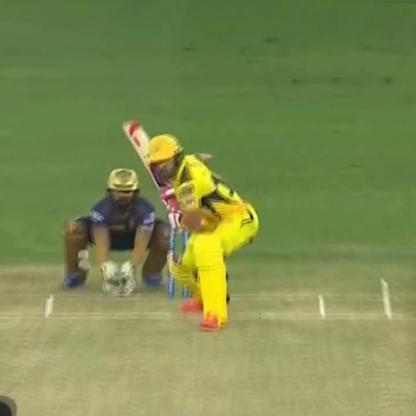ball: (70, 257, 92, 279), (70, 245, 96, 257)
bat: (120, 116, 188, 224)
pitch: (0, 263, 415, 415)
